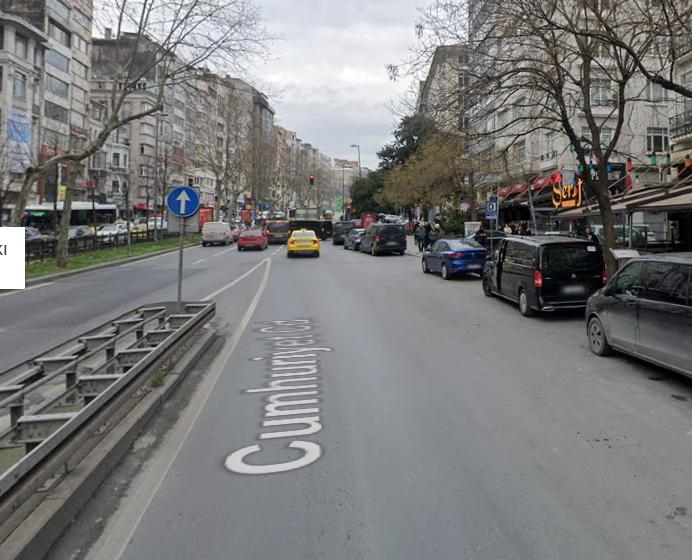forward: (167, 186, 200, 217)
